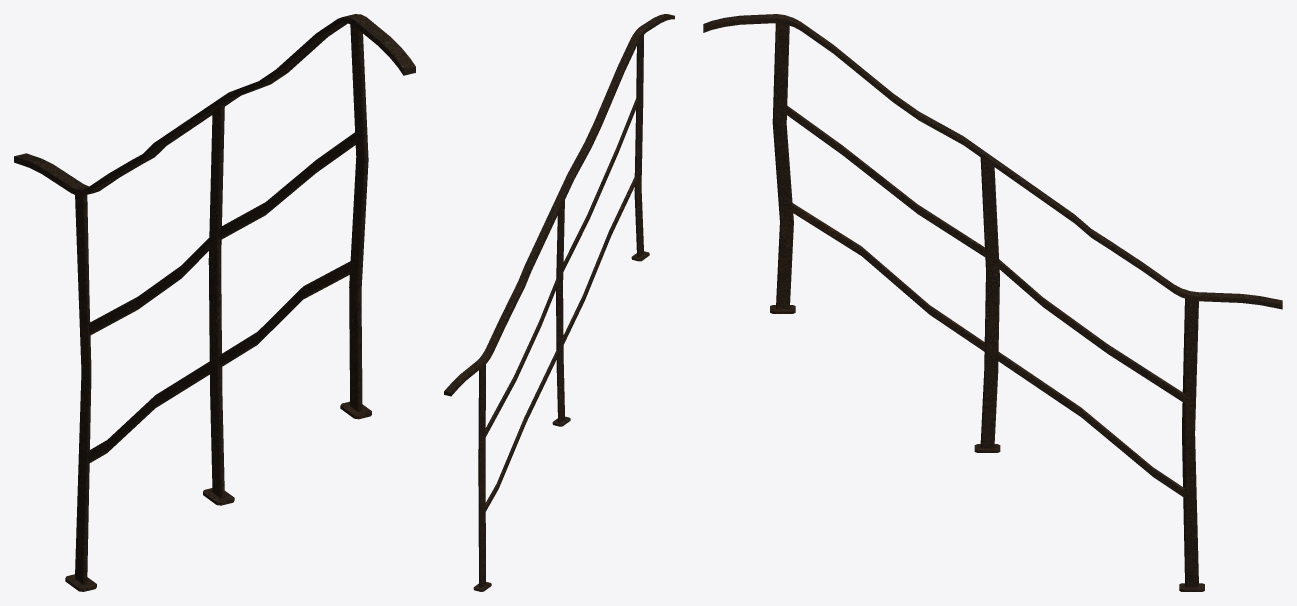
File: hand_rail_1.glb
The picture shows the model from 3 angles, left to right: view 1: azimuth 30°, elevation 25°; view 2: azimuth 150°, elevation 25°; view 3: azimuth 270°, elevation 25°; orthographic projection. The views are drawn at different scales.
Parts seen in each view (by area): view 1: hand_rail_1; view 2: hand_rail_1; view 3: hand_rail_1.
Boxes of the visible parts, left/top/right/bottom form: hand_rail_1: left=14, top=14, right=415, bottom=591; hand_rail_1: left=444, top=14, right=674, bottom=591; hand_rail_1: left=703, top=14, right=1282, bottom=591.
Size of the model in its own units: 0.06 by 2.47 by 2.26.
Materials: 1 (1 with a texture image).
